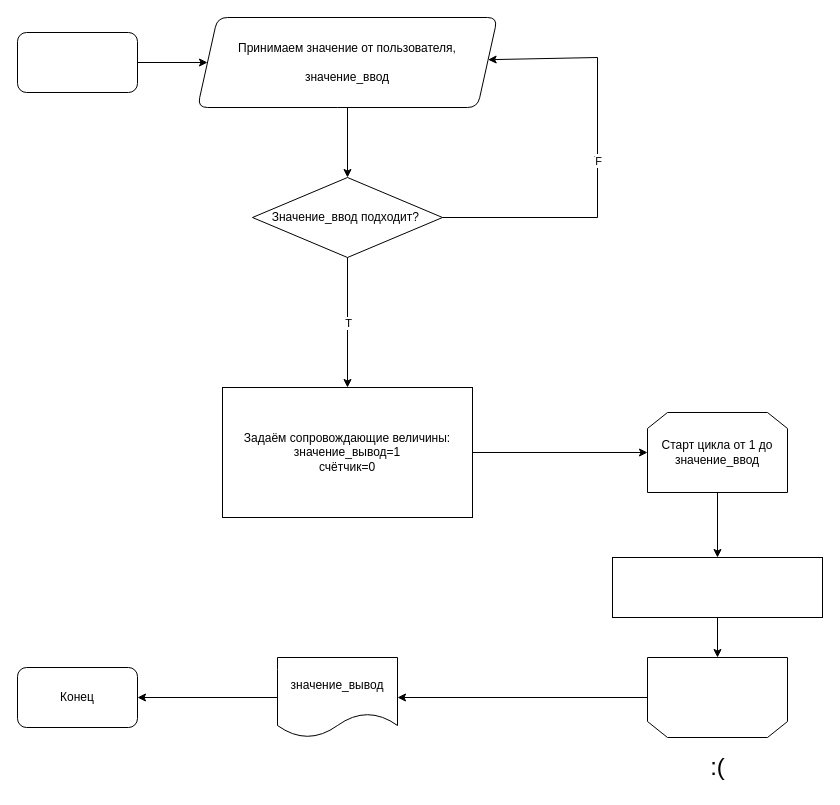
Some shapes in this 840 by 805 pixel diagram are drawn without their labels. The shapes that lost their labels are listed below. From the top down, each one's centre as x and y in pixels, then its label:
pixel 77 62: Начало
pixel 717 587: счётчик+=1 значение_вывод*=счётчик
pixel 717 697: конец цикла
